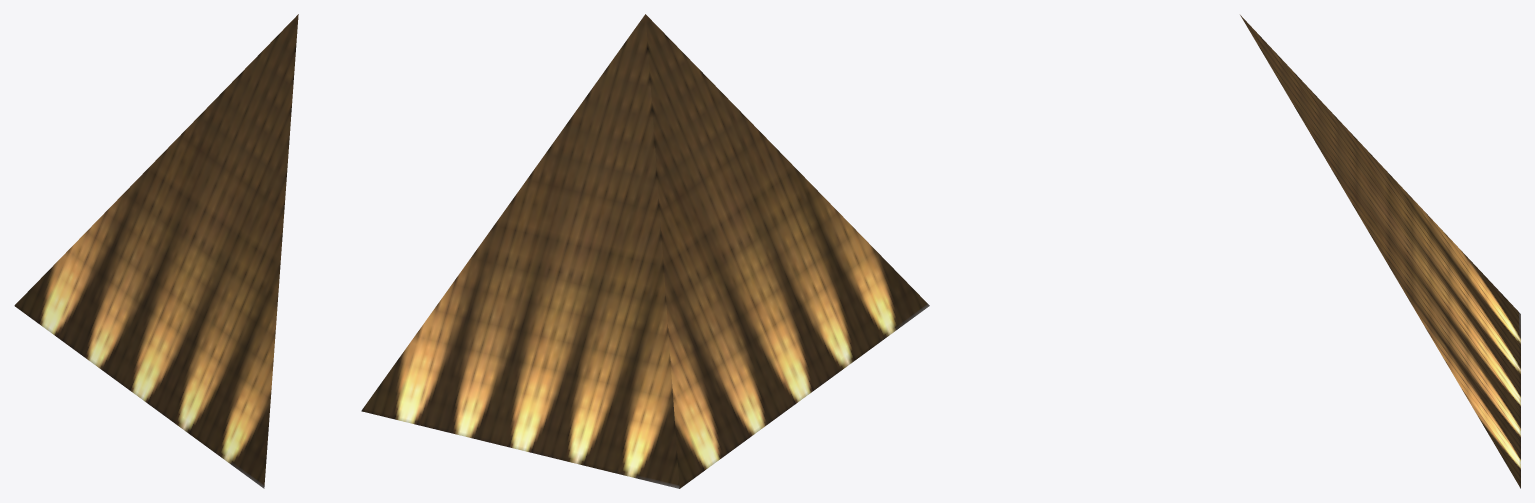
File: piramid.glb
3 renders of one model, left to right at view 1: azimuth 30°, elevation 25°; view 2: azimuth 150°, elevation 25°; view 3: azimuth 270°, elevation 25°, orthographic. The views are drawn at different scales.
Parts seen in each view (by area): view 1: piramid; view 2: piramid; view 3: piramid.
Part boxes in pixels (x1,y1,x2,y2): piramid: (14,14,298,488); piramid: (361,14,929,488); piramid: (1240,15,1520,488).
Bounding box in the file's own units: 2592 × 2678 × 3525.
Materials: 1 (1 with a texture image).
